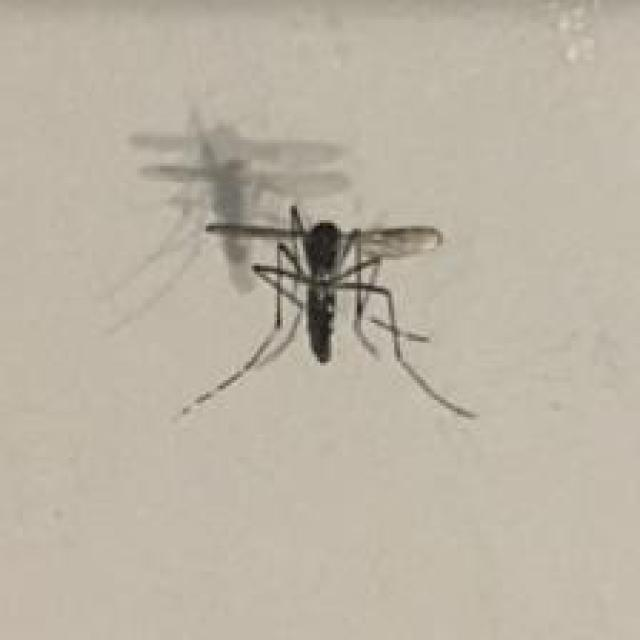Aedes albopictus: (176, 202, 478, 422)
